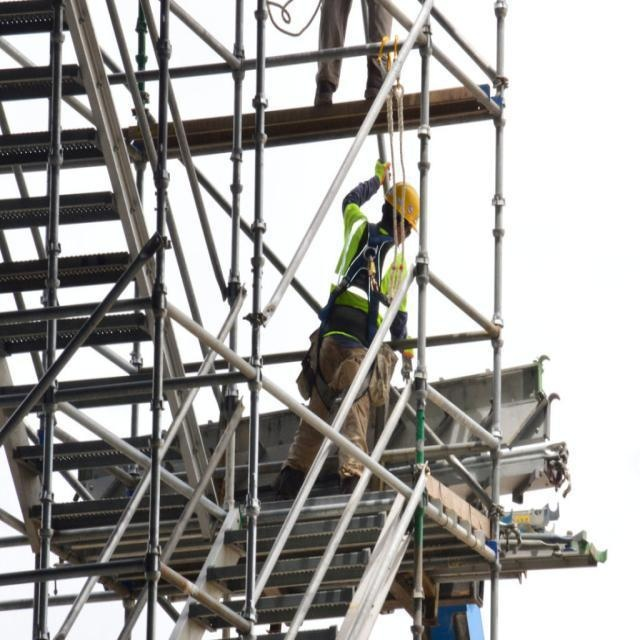Arnes_seguridad: (310, 219, 405, 417)
